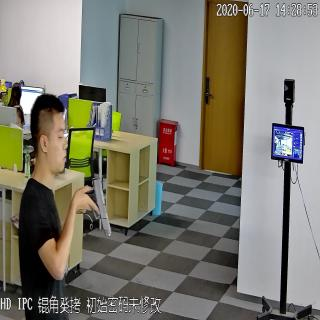gun: (78, 175, 112, 240)
